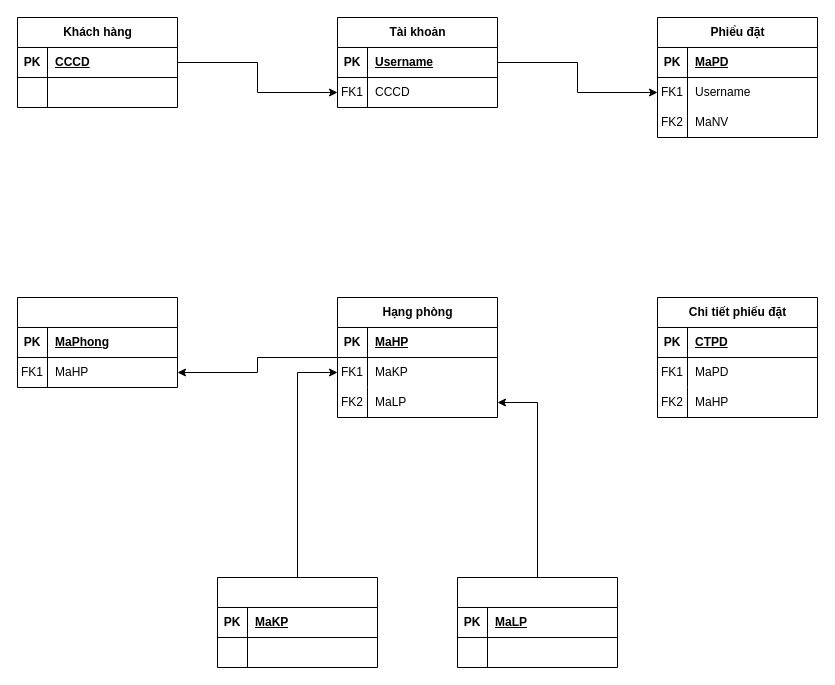
Image size: 835x685. Some labels were removed from this diagram. The shapes that lost their labels are listed below. From the top down, each one's box as (x1, y1, x2, y2) in pixels, then its label:
(16, 296, 178, 388): Phòng
(216, 576, 378, 668): Kiểu phòng
(456, 576, 618, 668): Loại phòng
